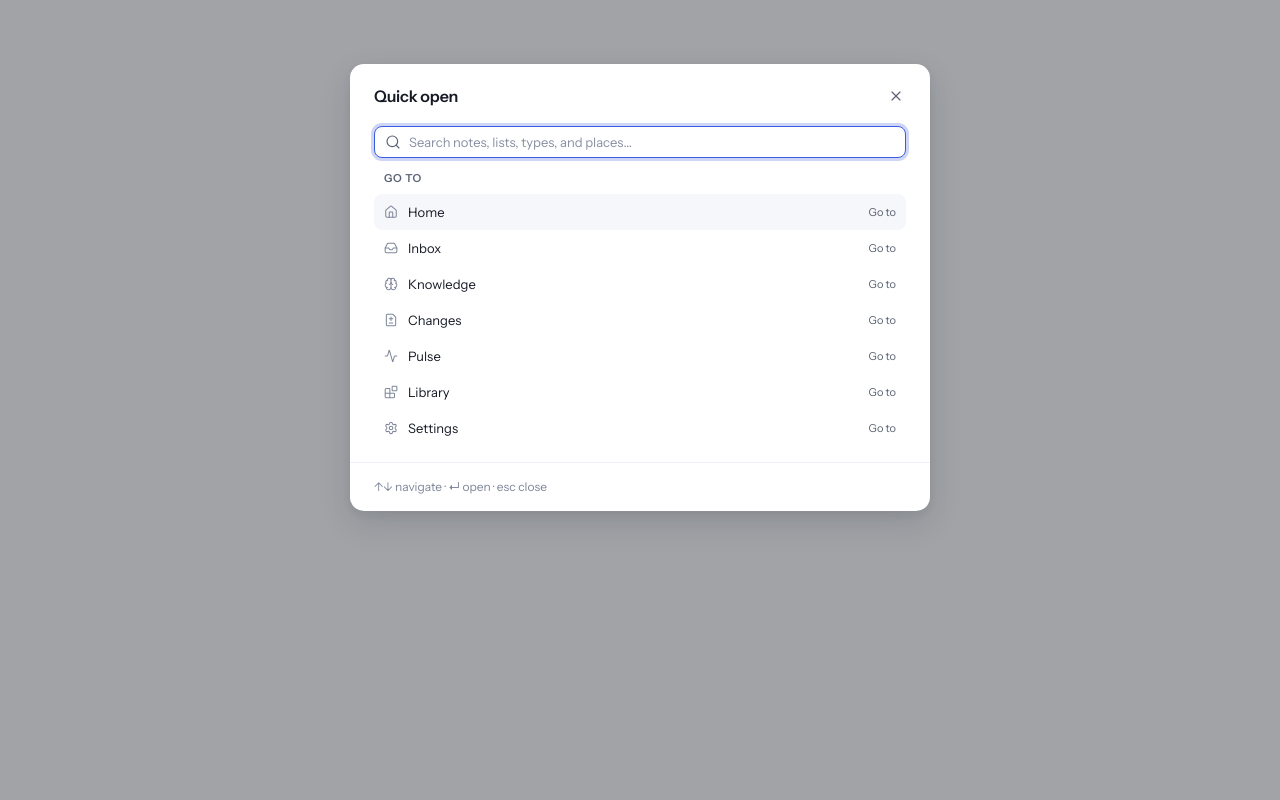
Test: QuickOpen › ranks an exact title prefix above a mid-title match
Type "guided" into the field with placeholder "Search notes, lists, types, and places…". click: point(652, 142)
box: 409,127 -> 895,157
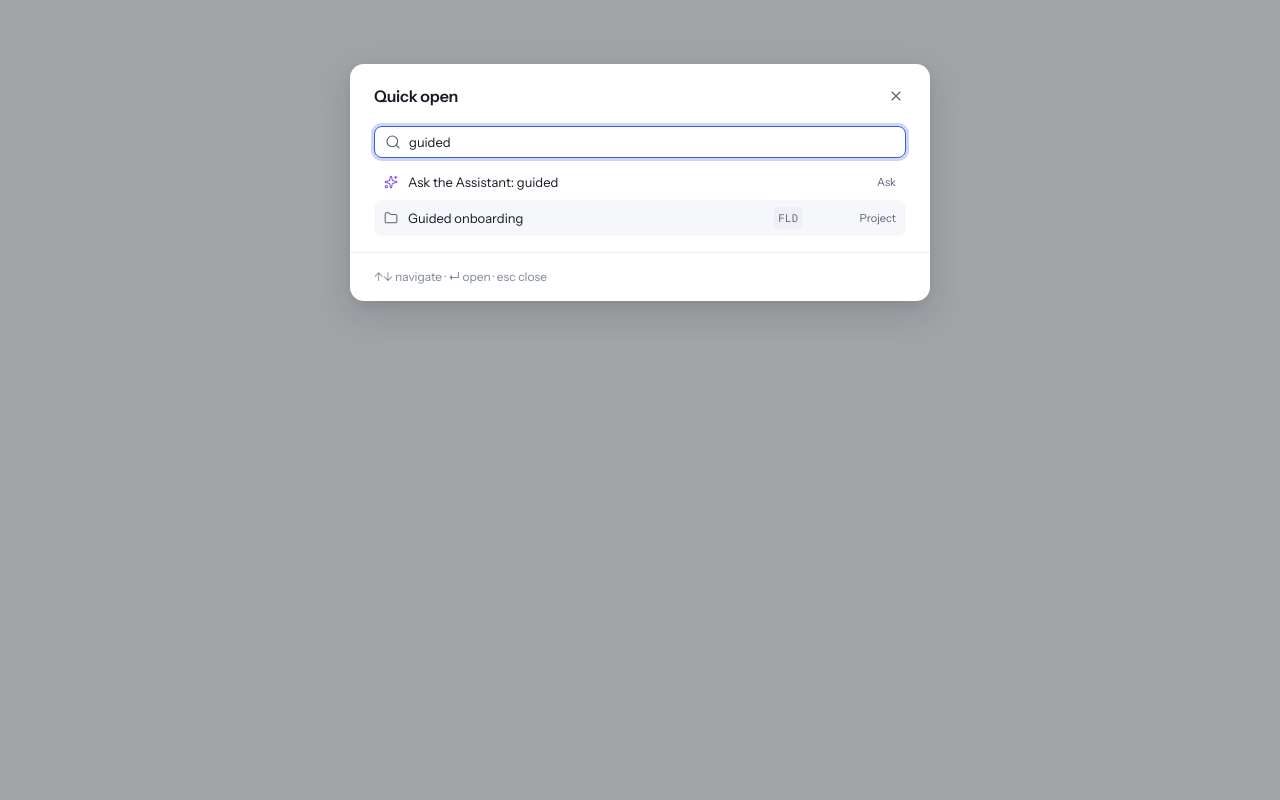
Check: the option "Ask the Assistant: guided Ask" is shown, box 374,164 -> 906,200
Check: the option "Guided onboarding FLD Project" is shown, box 374,200 -> 906,236
